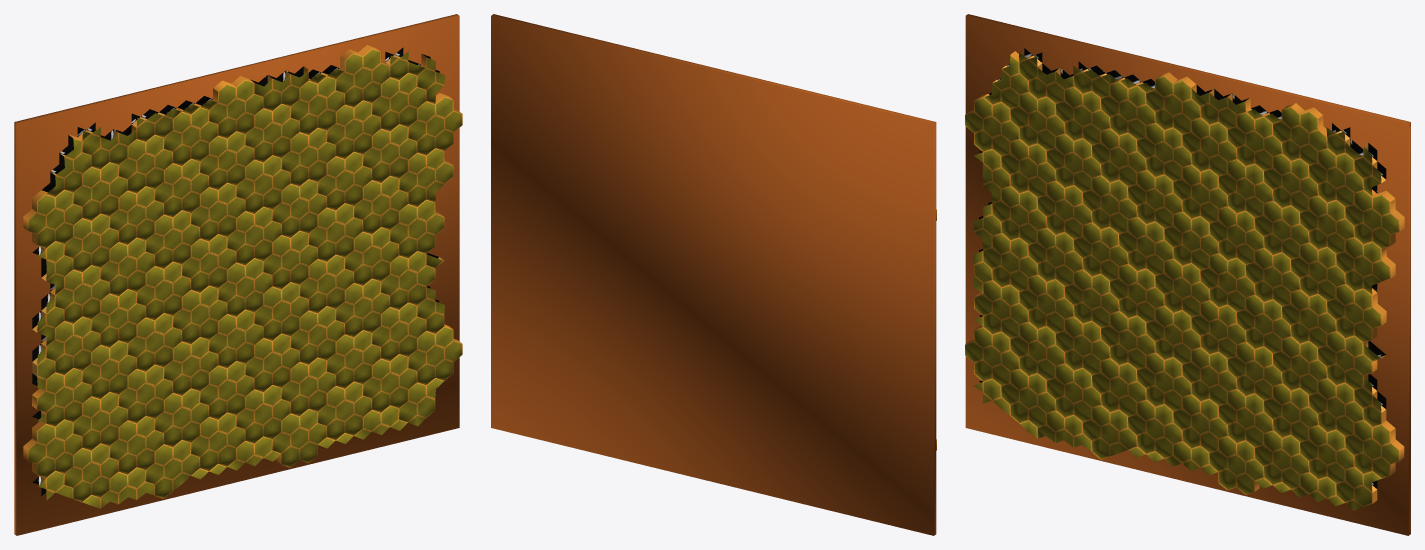
File: ParedeFase3fbx.fbx
The picture shows the model from 3 angles, left to right: view 1: azimuth 30°, elevation 25°; view 2: azimuth 150°, elevation 25°; view 3: azimuth 330°, elevation 25°; orthographic projection.
Visible parts, largest first — view 1: paredeCera; view 2: paredeCera; view 3: paredeCera.
Boxes of the visible parts, bbox=[...] form: paredeCera: bbox=[14, 14, 462, 535]; paredeCera: bbox=[491, 14, 936, 535]; paredeCera: bbox=[965, 14, 1410, 535].
Bounding box in the file's own units: 1314 × 1169 × 46.35.
